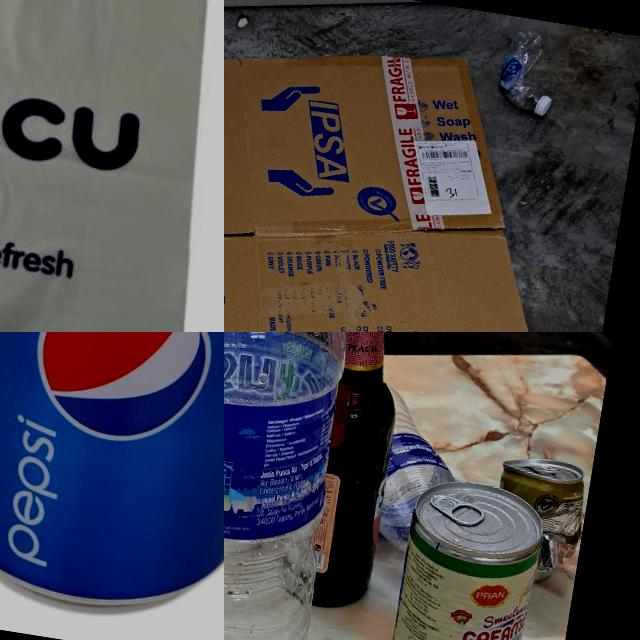aba de lata: (427, 493, 487, 529), (531, 462, 561, 474)
garrafa de vidro: (290, 332, 418, 614)
garrafa plástica: (224, 332, 371, 640), (358, 388, 466, 558), (496, 34, 564, 117)
lata: (0, 332, 224, 632), (383, 474, 550, 640), (486, 452, 592, 588)
papelão: (224, 10, 583, 332)
sacola plástica: (0, 0, 224, 332)
tampa plástica: (532, 92, 555, 116)
